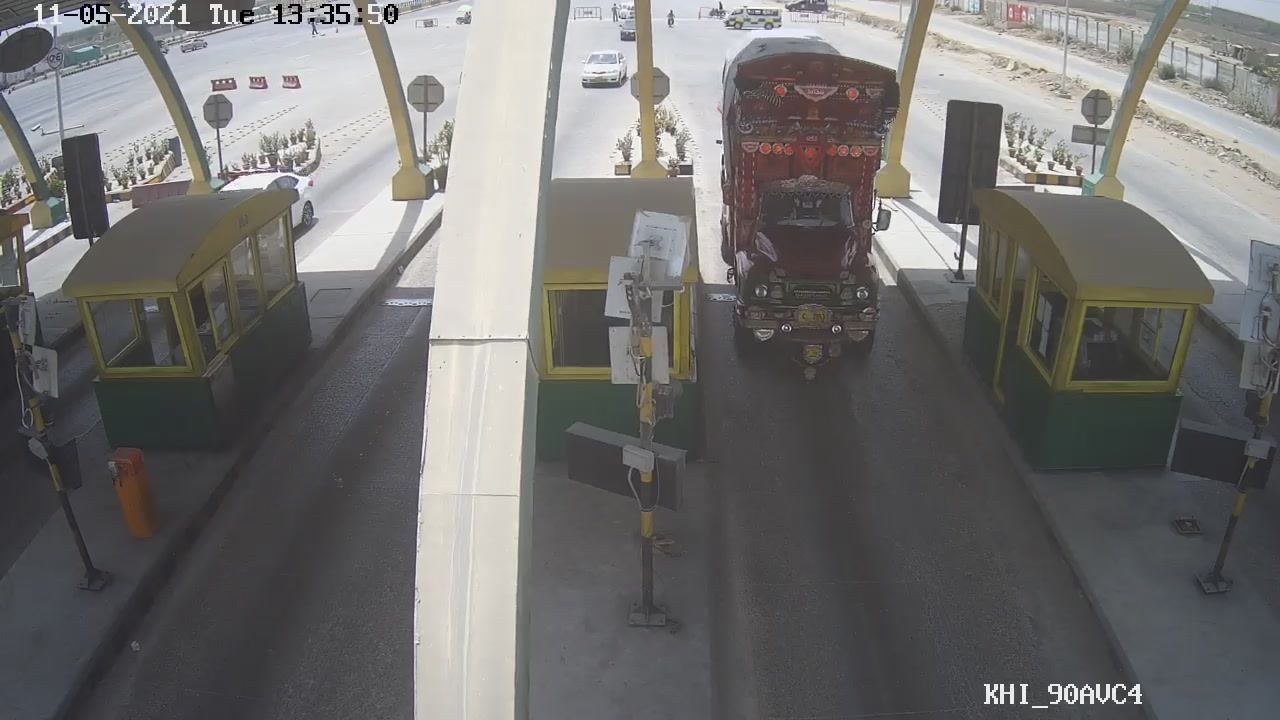F5: (712, 42, 920, 386)
